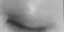RightEyeFatigue: (1, 5, 57, 32)
